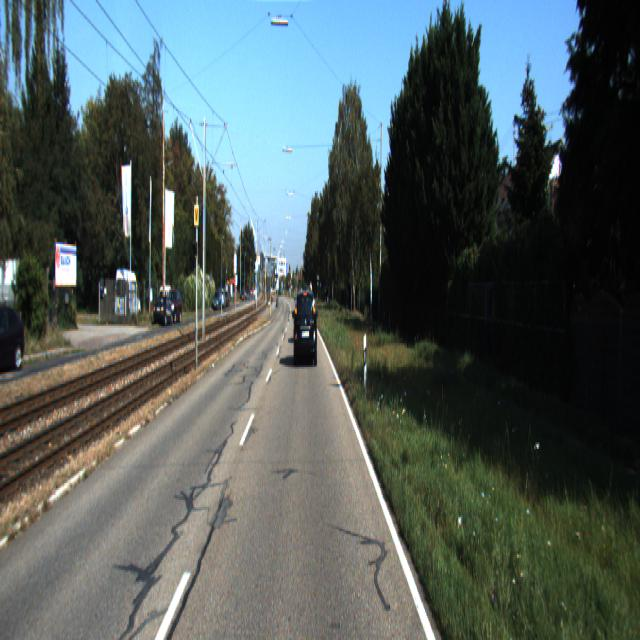Car: (294, 290, 318, 369), (0, 300, 23, 374), (115, 268, 142, 324), (153, 295, 175, 328)
